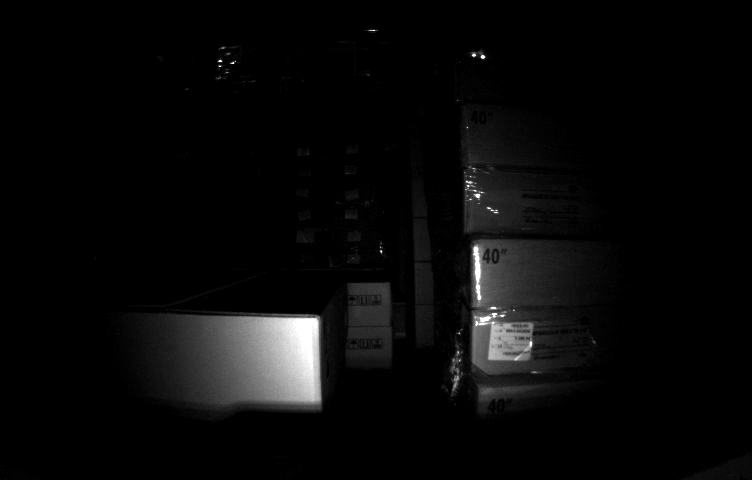True Barcode: (490, 319, 531, 358)
